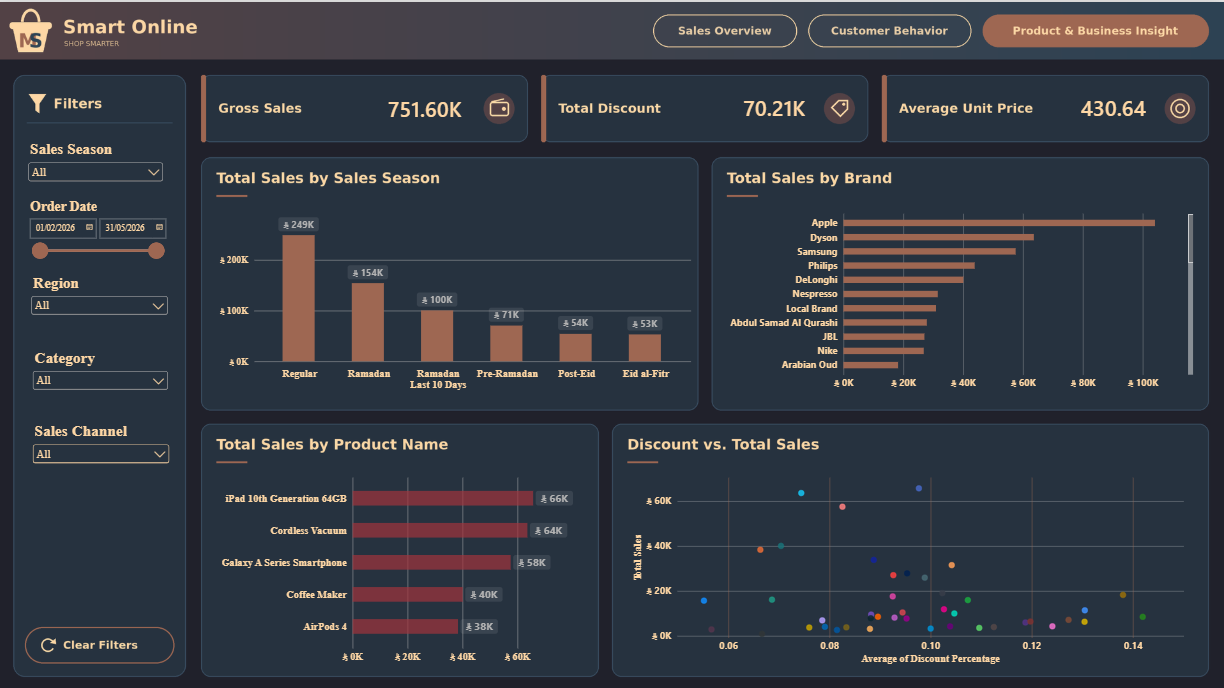

The dashboard page shown, as its layout file describes it:
{"tool":"powerbi","page":{"name":"Product & Business Insight","canvas":[1920,1080],"ordinal":2},"visuals":[{"type":"cardVisual","title":"Gross Sales","fields":{"Data":["Sales_Data.Gross Sales"]},"box":[527.2,116.2,280.6,102],"z":0},{"type":"cardVisual","title":"Total Discount","fields":{"Data":["Sales_Data.Discount Amount"]},"box":[1074.3,127.6,280.6,76.5],"z":1000},{"type":"cardVisual","title":"Average Unit Price","fields":{"Data":["Sales_Data.Average Unit Price"]},"box":[1607.3,102,280.6,127.6],"z":2000},{"type":"barChart","fields":{"Category":["Sales_Data.Product Name"],"Y":["Sales_Data.Total Sales"]},"box":[330,722.5,602.5,330],"z":3000},{"type":"barChart","fields":{"Category":["Sales_Data.Brand"],"Y":["Sales_Data.Total Sales"]},"box":[1130,310,757.5,317.5],"z":4000},{"type":"columnChart","fields":{"Category":["Sales_Data.Sales Season"],"Y":["Sales_Data.Total Sales"]},"box":[330,310,770,317.5],"z":5000},{"type":"scatterChart","title":"Discount vs. Total Sales","fields":{"Series":["Sales_Data.Product Name"],"X":["Avg(Sales_Data.Discount Percentage)"],"Y":["Sales_Data.Total Sales"]},"box":[977.5,722.5,910,330],"z":6000},{"type":"actionButton","box":[60,980,200,50],"z":6001},{"type":"slicer","fields":{"Values":["Sales_Data.Order Date"]},"box":[43.3,307.8,221.7,146.7],"z":6002},{"type":"slicer","fields":{"Values":["Sales_Data.Region"]},"box":[46.7,426.1,223.3,116.7],"z":6003},{"type":"slicer","fields":{"Values":["Sales_Data.Sales Season"]},"box":[42.5,216.2,221.1,82.2],"z":6004},{"type":"slicer","fields":{"Values":["Sales_Data.Category"]},"box":[48.3,542.8,221.4,88.6],"z":6005},{"type":"slicer","fields":{"Values":["Sales_Data.Sales Channel"]},"box":[48.3,657.8,223.3,110],"z":6006},{"type":"actionButton","box":[1306.7,26.7,196.7,40],"z":6007},{"type":"actionButton","box":[1053.3,26.7,180,40],"z":6008}]}

Visuals, with their boxes in screenshot pixels (x1, y1, x2, y2), scaled from the page's 1920x1080 canvas onto the 1224x688 screenshot:
"Gross Sales" cardVisual: [336, 74, 515, 139]
"Total Discount" cardVisual: [685, 81, 864, 130]
"Average Unit Price" cardVisual: [1025, 65, 1204, 146]
barChart - Sales_Data.Product Name x Sales_Data.Total Sales: [210, 460, 594, 670]
barChart - Sales_Data.Brand x Sales_Data.Total Sales: [720, 197, 1203, 400]
columnChart - Sales_Data.Sales Season x Sales_Data.Total Sales: [210, 197, 701, 400]
"Discount vs. Total Sales" scatterChart: [623, 460, 1203, 670]
actionButton: [38, 624, 166, 656]
slicer - Sales_Data.Order Date: [28, 196, 169, 290]
slicer - Sales_Data.Region: [30, 271, 172, 346]
slicer - Sales_Data.Sales Season: [27, 138, 168, 190]
slicer - Sales_Data.Category: [31, 346, 172, 402]
slicer - Sales_Data.Sales Channel: [31, 419, 173, 489]
actionButton: [833, 17, 958, 42]
actionButton: [671, 17, 786, 42]
